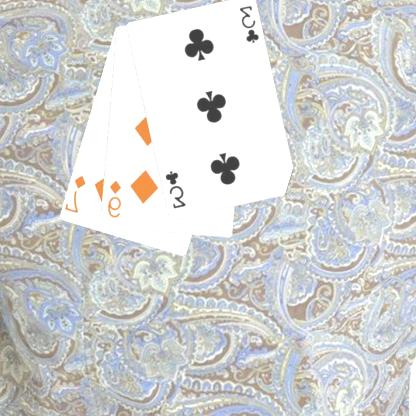3C: (164, 168, 188, 210), (238, 3, 262, 45)
6D: (106, 178, 124, 220)
7D: (65, 172, 89, 215)
